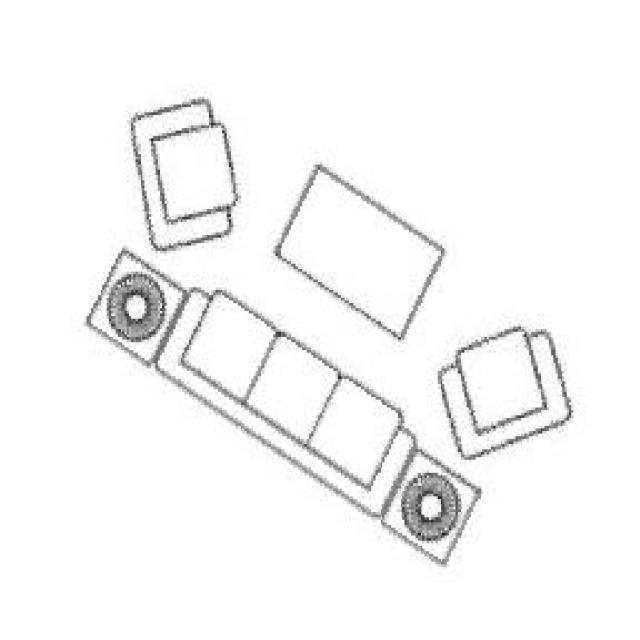sofa: (75, 91, 569, 564)
